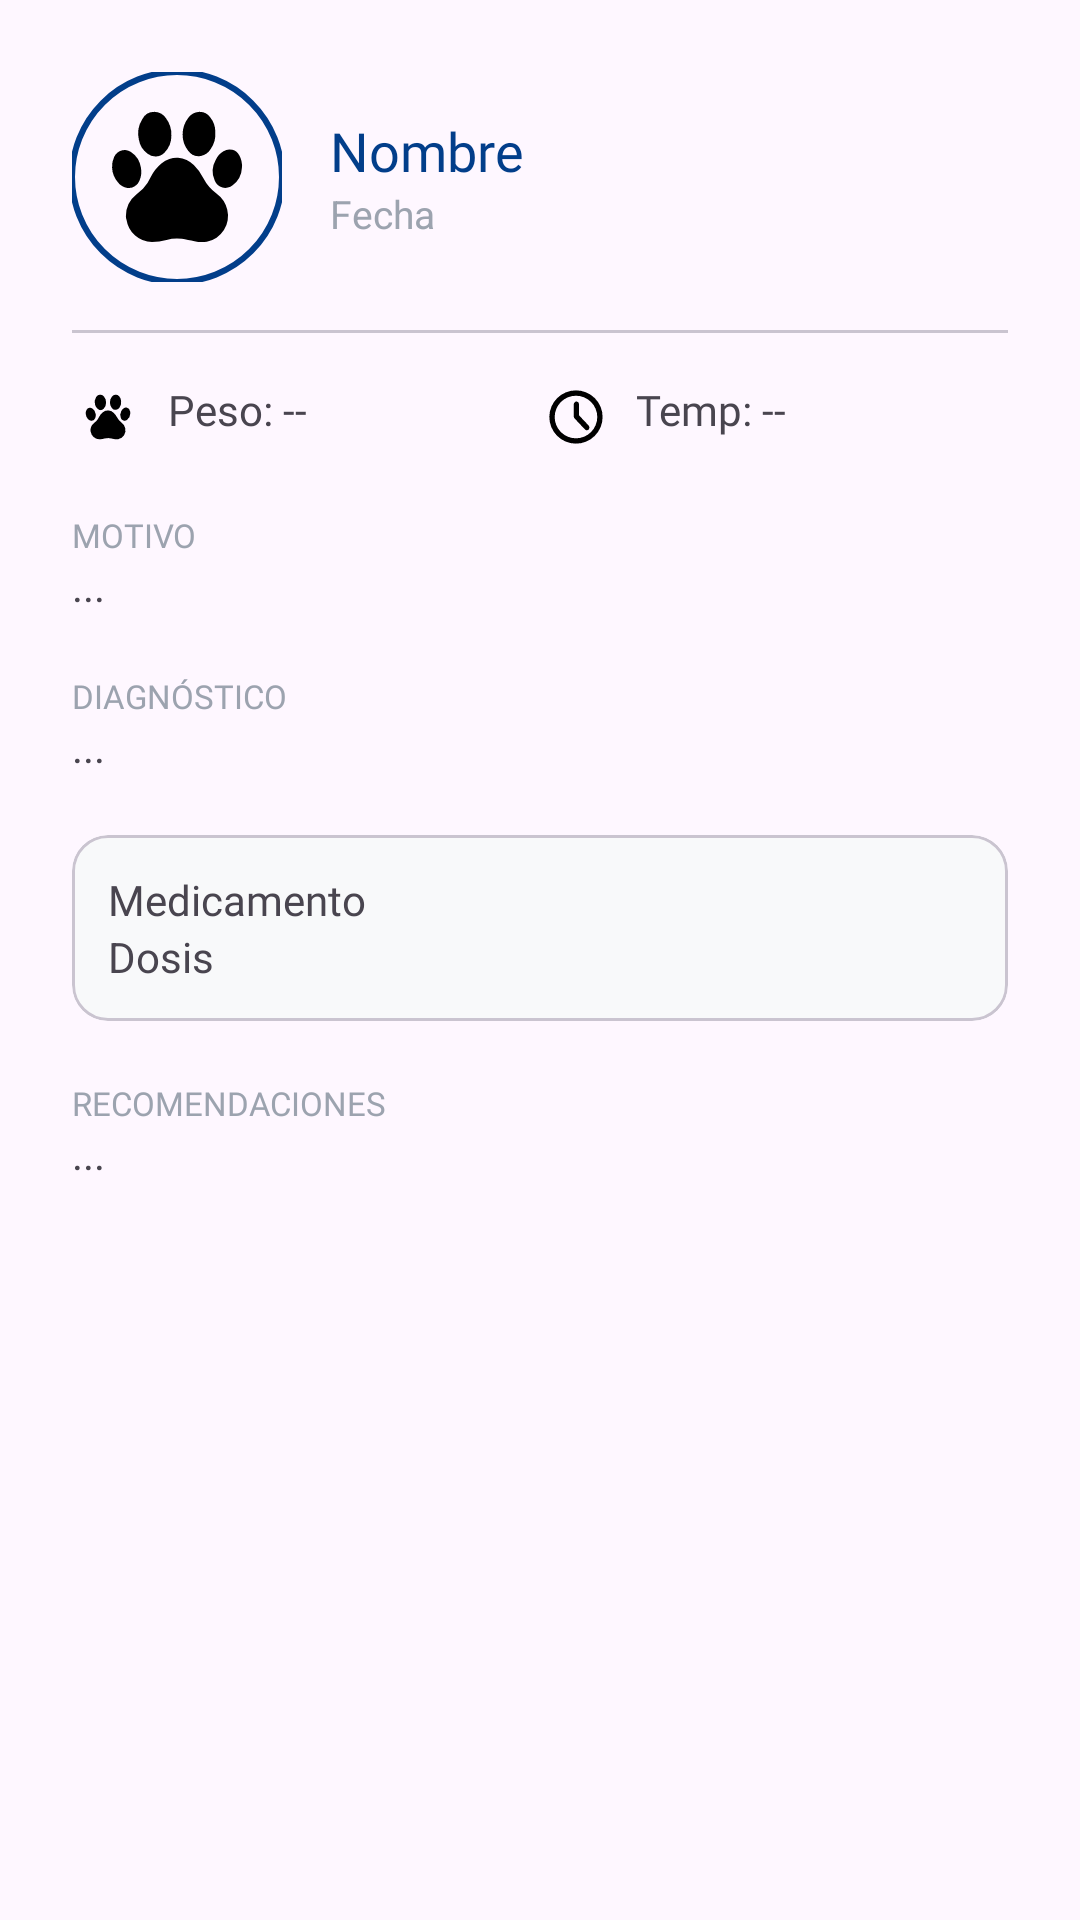

Screen size 1080×1920. Icon name, then its box in pixels as (x1, y1, x2, y2):
pet: (72, 72, 282, 282)
